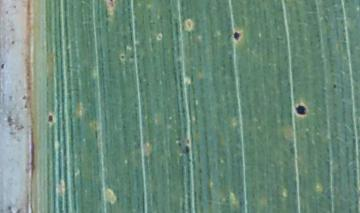tarspot: (295, 104, 307, 116), (233, 31, 240, 42), (47, 114, 55, 123), (331, 82, 338, 90), (184, 146, 191, 153), (156, 33, 162, 41), (177, 141, 183, 148), (120, 54, 126, 60), (1, 63, 6, 70), (109, 1, 114, 3)
